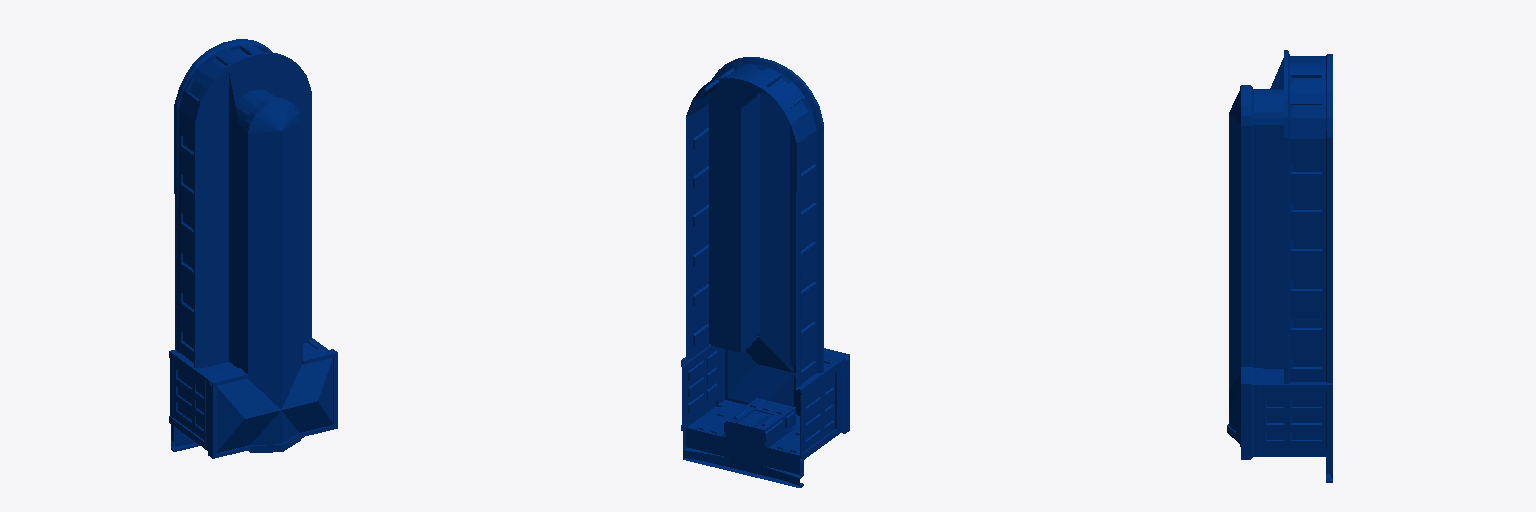
Rendered from Korenbeurs.obj.
The picture shows the model from 3 angles: view 1: azimuth 30°, elevation 25°; view 2: azimuth 150°, elevation 25°; view 3: azimuth 270°, elevation 25°; orthographic projection.
Parts seen in each view (by area): view 1: Box001; view 2: Box001; view 3: Box001.
Part boxes in pixels (x1,y1,x2,y2): Box001: (169,39,337,458); Box001: (681,57,849,487); Box001: (1227,50,1332,482).
Size of the model in its own units: 420 by 1273 by 309.